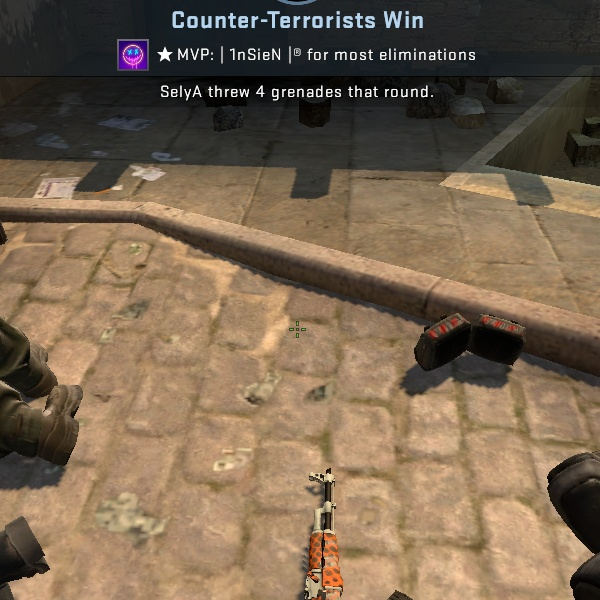t_body: (294, 527, 357, 599)
